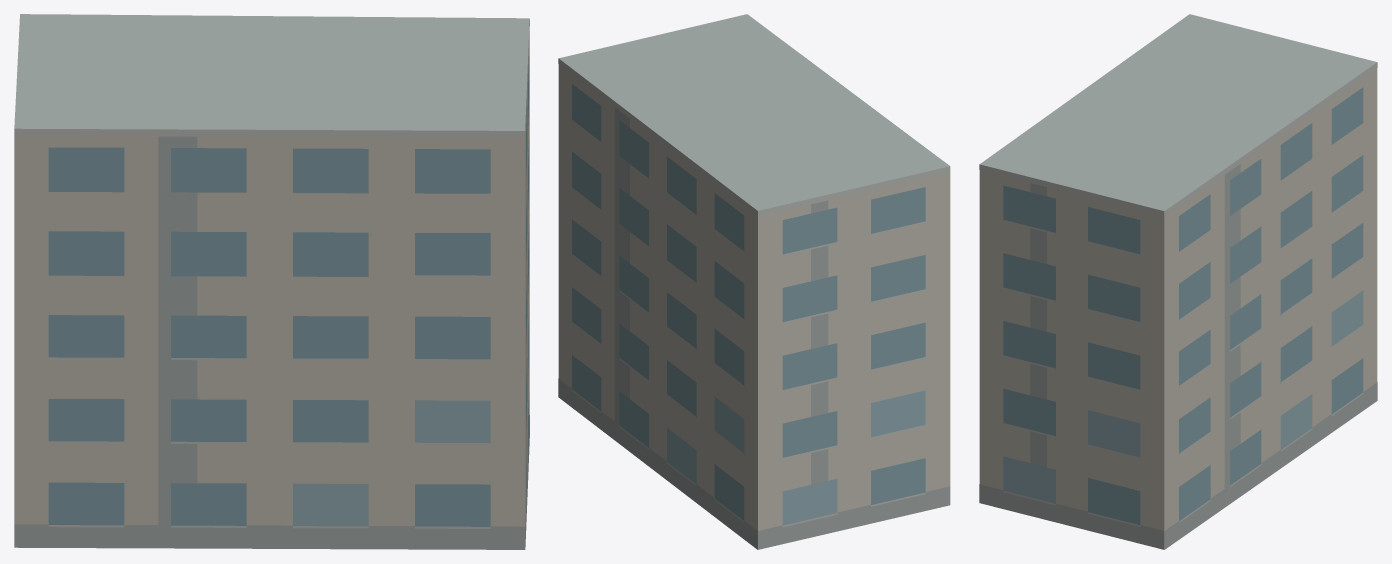
File: survey-upis-32803326.glb
3 views of the same model, side by side, from view 1: azimuth 30°, elevation 25°; view 2: azimuth 150°, elevation 25°; view 3: azimuth 270°, elevation 25° (orthographic). The views are drawn at different scales.
Visible parts, largest first — view 1: survey-upis-32803326.tmp; view 2: survey-upis-32803326.tmp; view 3: survey-upis-32803326.tmp.
Boxes of the visible parts, x1=… form: survey-upis-32803326.tmp: x1=14, y1=14, x2=529, y2=549; survey-upis-32803326.tmp: x1=558, y1=14, x2=950, y2=549; survey-upis-32803326.tmp: x1=979, y1=14, x2=1377, y2=549.
Bounding box in the file's own units: 17.86 × 14.3 × 15.23.
